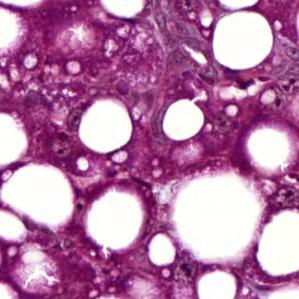steatosis: (75, 101, 139, 154), (165, 98, 204, 143)
